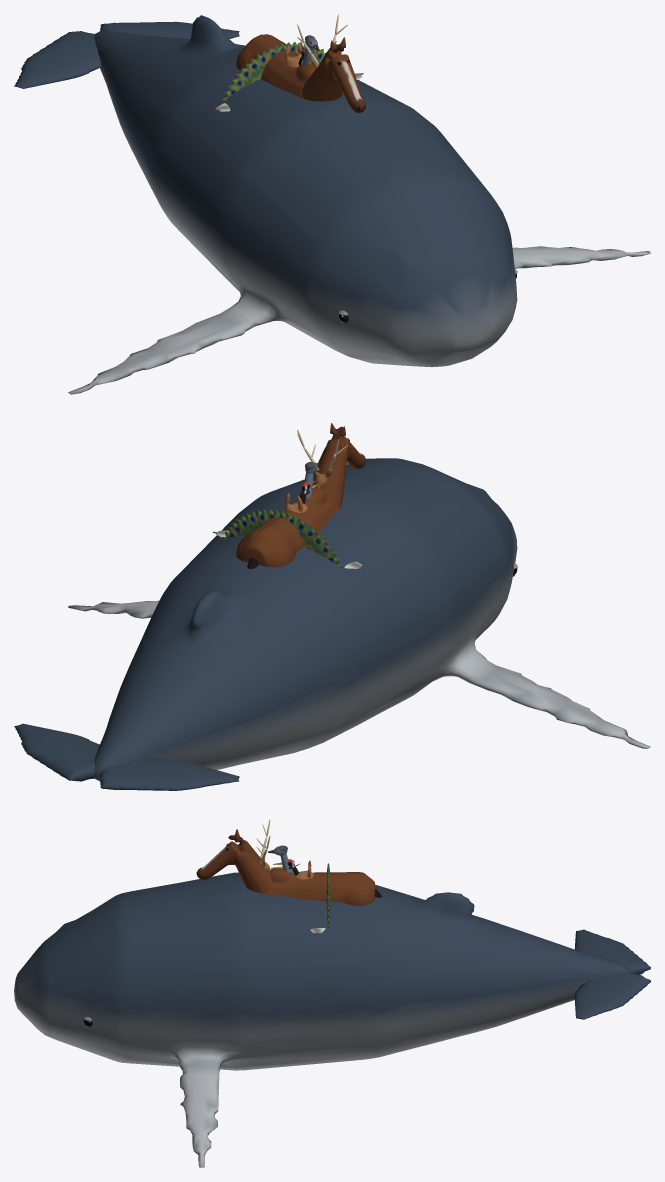
File: animals.glb
The picture shows the model from 3 angles, top to bottom: view 1: azimuth 30°, elevation 25°; view 2: azimuth 150°, elevation 25°; view 3: azimuth 270°, elevation 25°; orthographic projection. The views are drawn at different scales.
Parts seen in each view (by area): view 1: whale_body, whale_flukeP, horse_neckP_fur, horse_body_fur, peacock_fanP; view 2: whale_body, whale_flukeP, horse_body_fur, horse_neckP_fur, peacock_fanP; view 3: whale_body, whale_flukeP, horse_body_fur, horse_neckP_fur.
Boxes of the visible parts, <box> form: whale_body: <box>68,15,650,394</box>; whale_flukeP: <box>14,21,239,88</box>; horse_neckP_fur: <box>302,37,365,112</box>; horse_body_fur: <box>236,34,315,98</box>; peacock_fanP: <box>222,42,326,101</box>; whale_body: <box>68,458,650,781</box>; whale_flukeP: <box>14,723,239,790</box>; horse_body_fur: <box>236,486,338,567</box>; horse_neckP_fur: <box>313,423,365,508</box>; peacock_fanP: <box>222,509,342,568</box>; whale_body: <box>14,872,631,1167</box>; whale_flukeP: <box>574,929,650,1019</box>; horse_body_fur: <box>265,868,374,905</box>; horse_neckP_fur: <box>196,829,271,893</box>.
Bounding box in the file's own units: 7.34 × 3.4 × 8.5.
